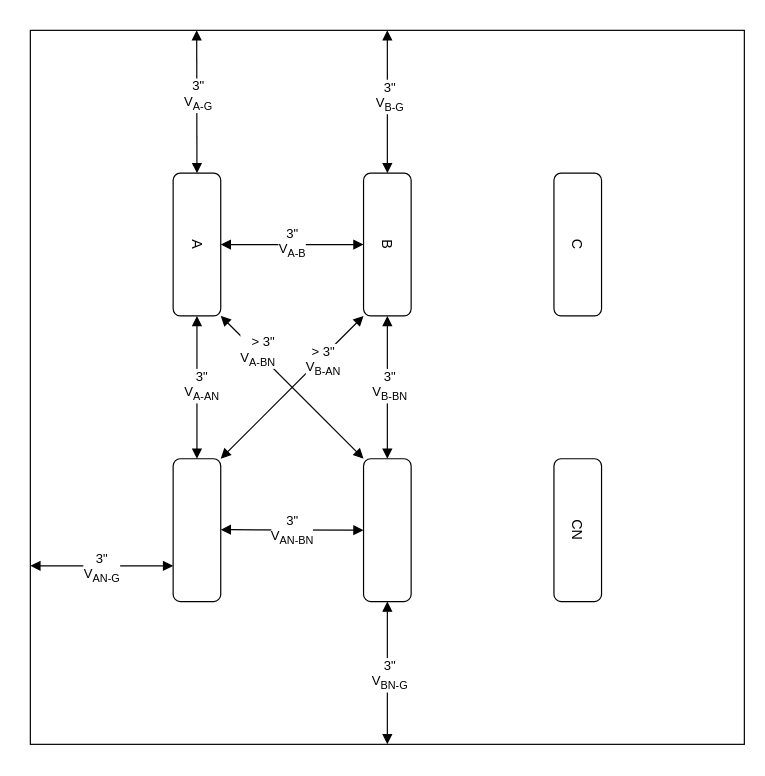
Some shapes in this 765 by 776 pixel diagram are drawn without their labels. The shapes that lost their labels are listed below. From the top down, each one's centre as x and y in pixels, then its label:
At (x=196, y=530): "AN".
At (x=386, y=530): "BN".
